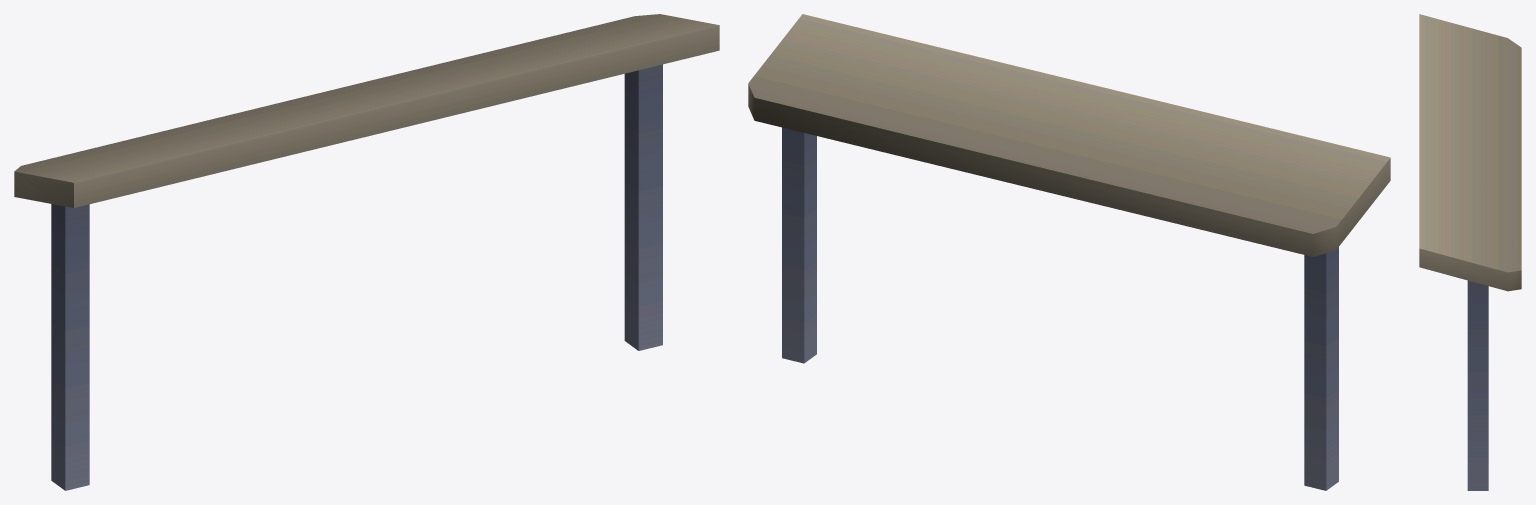
File: detail-awning-wide.glb
3 views of the same model, side by side, from view 1: azimuth 30°, elevation 25°; view 2: azimuth 150°, elevation 25°; view 3: azimuth 270°, elevation 25° (orthographic). The views are drawn at different scales.
Visible parts, largest first — view 1: detail-awning-wide; view 2: detail-awning-wide; view 3: detail-awning-wide.
Boxes of the visible parts, left/top/right/bottom form: detail-awning-wide: left=14, top=14, right=719, bottom=490; detail-awning-wide: left=748, top=14, right=1390, bottom=490; detail-awning-wide: left=1419, top=14, right=1521, bottom=490.
Size of the model in its own units: 0.8 by 0.4 by 0.1479.
1 material, 1 textured.
